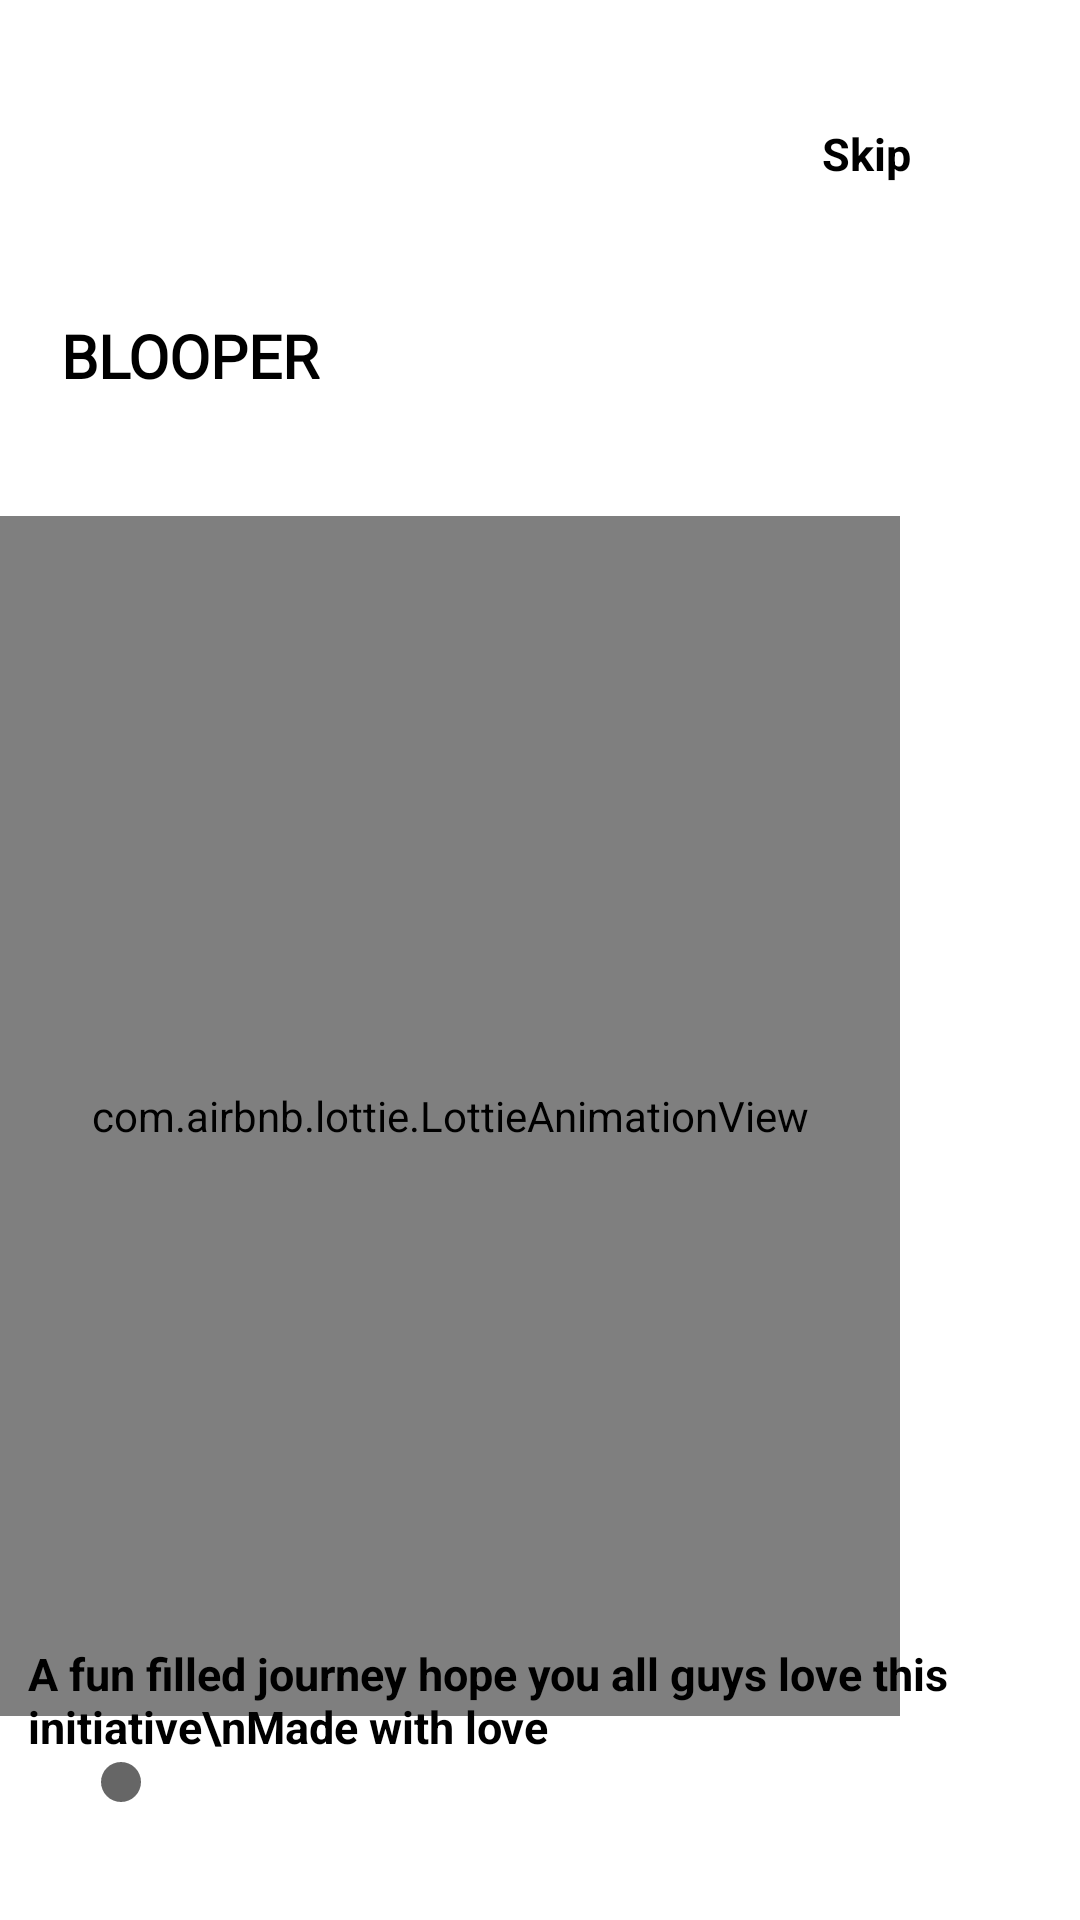

Locate icon controls on the screen. Image size 1080 x 1920, boxes as (x1, y1, x2, y2).
dot: (101, 1762, 141, 1802)
